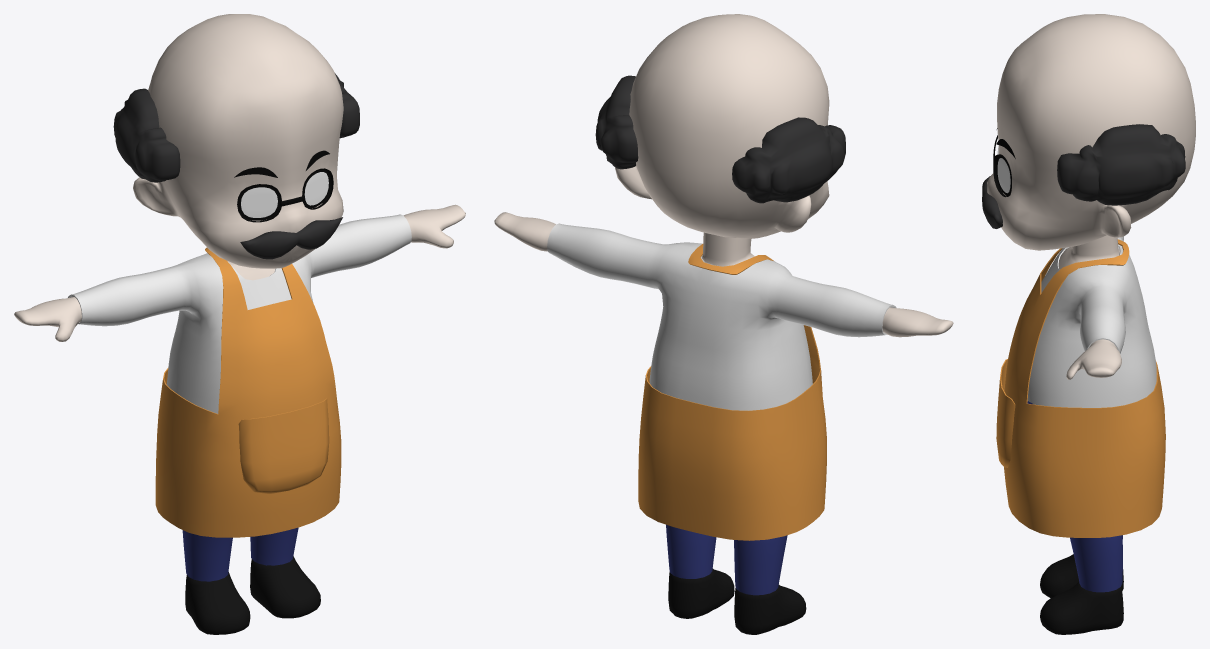
The model's file is Character_uncle.fbx.
3 renders of one model, left to right at view 1: azimuth 30°, elevation 25°; view 2: azimuth 150°, elevation 25°; view 3: azimuth 270°, elevation 25°, orthographic.
Parts seen in each view (by area): view 1: Body.002, Head, Body.001, Cloth.shoes, Cube.003, Body, Plane, Cube.001; view 2: Body.001, Head, Body.002, Cube.003, Cloth.shoes, Body; view 3: Head, Body.002, Body.001, Cube.003, Cloth.shoes, Body, Plane, Cube.001.
Boxes of the visible parts, x1,y1,x2,y2 form: Body.002: (155, 247, 341, 537); Head: (133, 14, 343, 268); Body.001: (68, 214, 411, 581); Cloth.shoes: (185, 556, 320, 634); Cube.003: (113, 73, 359, 182); Body: (14, 204, 465, 341); Plane: (237, 168, 333, 222); Cube.001: (240, 217, 342, 259); Body.001: (547, 223, 896, 595); Head: (615, 14, 829, 238); Body.002: (638, 244, 826, 540); Cube.003: (595, 75, 845, 203); Cloth.shoes: (668, 568, 806, 634); Body: (494, 212, 953, 337); Head: (987, 14, 1195, 250); Body.002: (996, 239, 1165, 537); Body.001: (1027, 236, 1156, 592); Cube.003: (1057, 124, 1185, 205); Cloth.shoes: (1040, 554, 1123, 634); Body: (1058, 235, 1121, 379); Plane: (993, 135, 1011, 197); Cube.001: (982, 176, 1002, 228).
Bounding box in the file's own units: 91.59 × 116 × 38.13.
